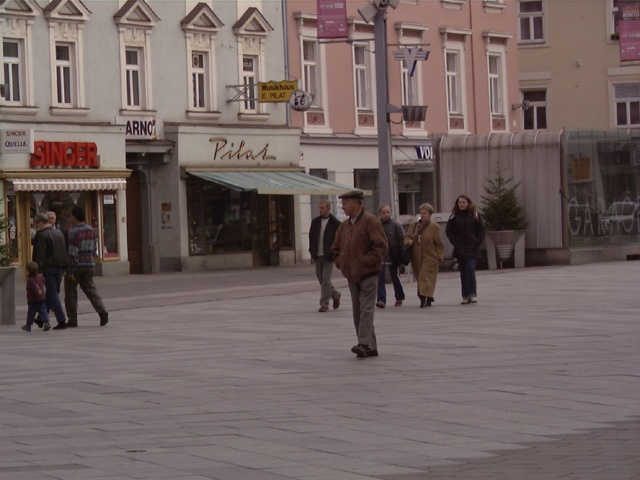person: (326, 193, 389, 359), (24, 213, 69, 330), (63, 207, 100, 327), (408, 201, 444, 308), (448, 194, 483, 304)
